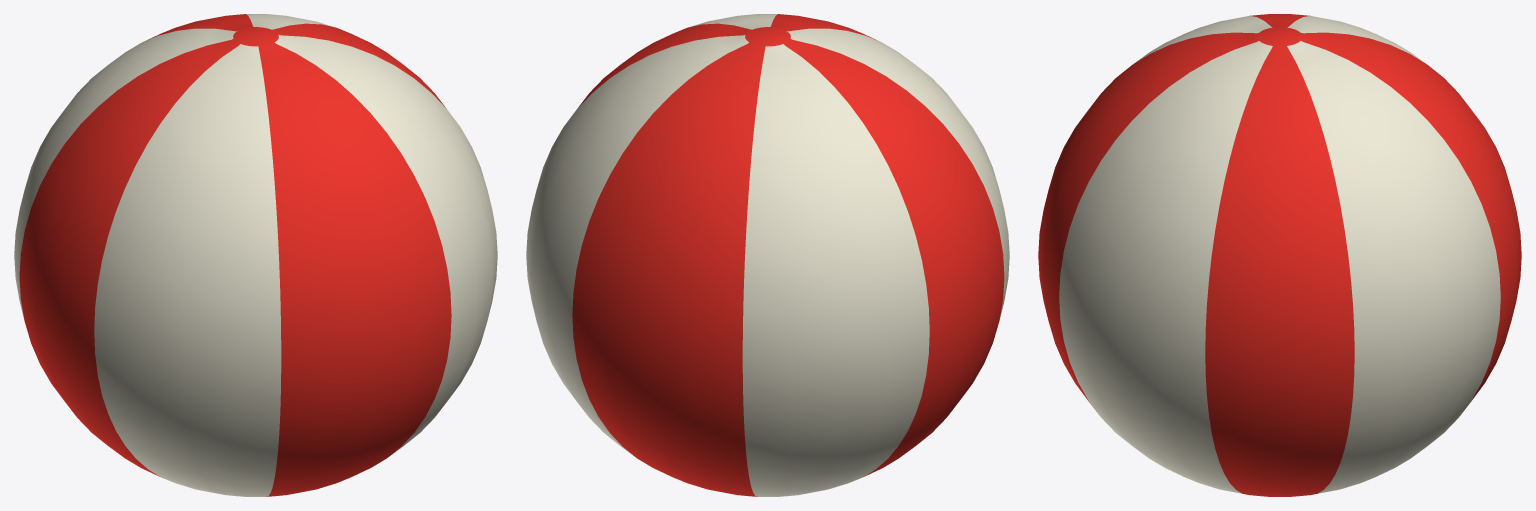
3 renders of one model, left to right at view 1: azimuth 30°, elevation 25°; view 2: azimuth 150°, elevation 25°; view 3: azimuth 270°, elevation 25°, orthographic.
Parts seen in each view (by area): view 1: Sphere.003; view 2: Sphere.003; view 3: Sphere.003.
Boxes of the visible parts, box(x1,y1,x2,y2) form: Sphere.003: box(14, 14, 497, 496); Sphere.003: box(526, 14, 1009, 496); Sphere.003: box(1038, 14, 1521, 496).
Size of the model in its own units: 0.2958 by 0.2984 by 0.2974.
